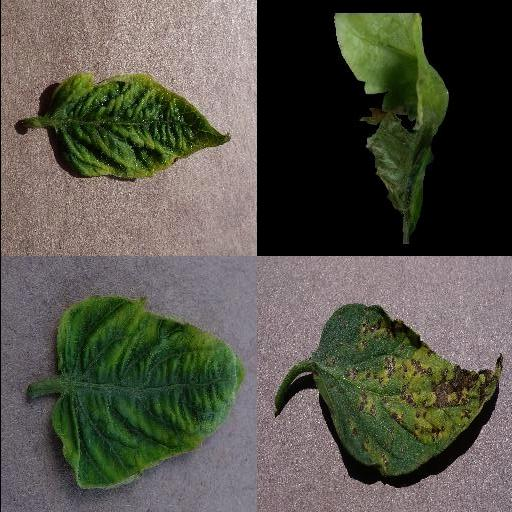Late Blight: (330, 14, 450, 244)
Septoria: (312, 302, 504, 474)
Yellow Leaf Curl Virus: (49, 296, 247, 492), (51, 70, 231, 179)
